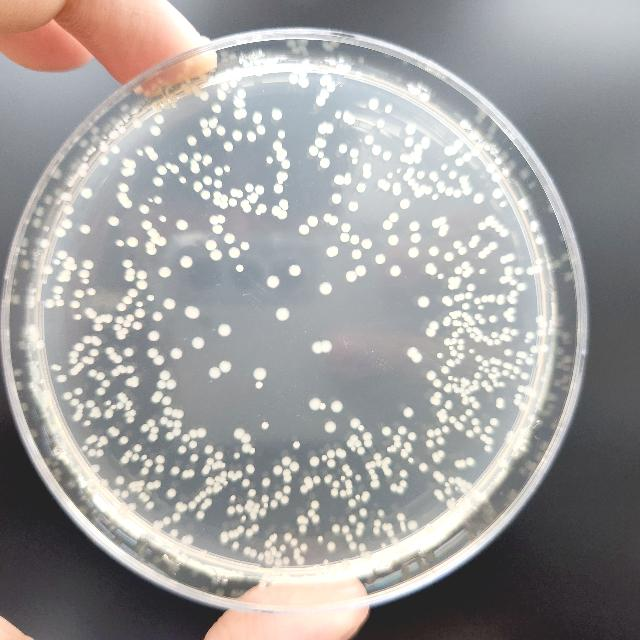colony: (184, 305, 200, 319), (275, 307, 289, 321), (266, 276, 280, 288), (218, 324, 232, 336), (320, 282, 332, 294), (326, 246, 338, 258), (289, 264, 301, 276), (417, 296, 429, 308), (331, 400, 343, 412), (309, 398, 321, 410), (180, 256, 192, 268), (210, 249, 222, 261), (159, 266, 171, 278), (233, 96, 245, 108), (164, 298, 176, 310), (192, 337, 204, 349), (254, 368, 266, 380), (220, 361, 232, 373), (391, 265, 402, 277), (408, 246, 419, 258), (224, 233, 236, 244), (171, 348, 183, 359), (148, 331, 160, 342), (312, 341, 322, 354), (322, 340, 332, 352), (346, 270, 356, 282), (356, 265, 366, 277), (298, 225, 310, 235), (362, 238, 372, 250), (388, 234, 398, 246), (409, 220, 419, 232), (405, 124, 415, 136), (230, 247, 240, 259), (314, 138, 326, 148), (492, 188, 502, 200), (324, 422, 336, 432), (176, 220, 188, 230), (150, 126, 162, 136), (136, 280, 148, 290), (210, 367, 220, 379), (62, 218, 72, 230), (108, 130, 120, 140), (341, 559, 351, 571), (308, 216, 318, 227), (375, 253, 385, 264), (368, 100, 379, 110), (408, 347, 418, 358), (412, 352, 422, 363), (206, 240, 217, 250), (233, 429, 244, 439), (167, 378, 177, 389), (40, 239, 51, 249), (81, 188, 92, 198), (352, 249, 362, 259), (340, 233, 350, 243), (350, 235, 360, 245), (277, 210, 287, 220), (271, 206, 281, 216), (334, 175, 344, 185), (332, 194, 342, 204), (348, 202, 358, 212), (356, 183, 366, 193), (338, 144, 348, 154), (320, 158, 330, 168), (309, 146, 319, 156), (383, 220, 393, 230), (411, 233, 421, 243), (400, 199, 410, 209), (274, 184, 284, 194), (364, 135, 374, 145), (272, 110, 282, 120), (253, 114, 263, 124), (316, 97, 326, 107), (326, 83, 336, 93), (289, 74, 299, 84), (298, 78, 308, 88), (426, 327, 436, 337), (404, 138, 414, 148), (491, 173, 501, 183), (473, 194, 483, 204), (429, 246, 439, 256), (444, 252, 454, 262), (484, 216, 494, 226), (426, 370, 436, 380), (403, 407, 413, 417), (418, 462, 428, 472), (446, 499, 456, 509), (408, 520, 418, 530), (310, 456, 320, 466), (282, 456, 292, 466), (350, 418, 360, 428), (233, 131, 243, 141), (213, 224, 223, 234), (142, 220, 152, 230), (128, 237, 138, 247), (137, 270, 147, 280), (241, 433, 251, 443), (242, 443, 252, 453), (162, 396, 172, 406), (160, 370, 170, 380), (154, 355, 164, 365), (148, 348, 158, 358), (135, 308, 145, 318), (128, 288, 138, 298), (75, 342, 85, 352), (58, 250, 68, 260), (84, 260, 94, 270), (109, 216, 119, 226), (81, 224, 91, 234), (56, 227, 66, 237), (64, 205, 74, 215), (111, 144, 121, 154), (62, 192, 72, 202), (424, 524, 434, 534), (497, 458, 507, 468), (418, 92, 429, 101), (276, 172, 288, 180), (408, 87, 420, 95), (329, 216, 338, 226), (389, 213, 398, 223), (372, 146, 381, 156), (429, 320, 438, 330), (453, 140, 462, 150), (538, 343, 548, 352), (382, 426, 391, 436), (289, 462, 299, 471), (262, 478, 272, 487), (140, 204, 150, 213), (224, 142, 233, 152), (217, 126, 226, 136), (154, 115, 164, 124), (212, 105, 222, 114), (247, 464, 256, 474), (204, 444, 213, 454), (153, 312, 163, 321), (29, 323, 39, 332), (470, 489, 480, 498), (190, 164, 200, 173), (125, 348, 134, 357), (458, 498, 467, 507), (280, 198, 288, 208), (272, 142, 282, 150), (282, 160, 290, 170), (382, 153, 392, 161), (376, 120, 386, 128), (256, 127, 266, 135), (248, 132, 256, 142), (320, 90, 330, 98), (298, 70, 308, 78), (256, 185, 264, 195), (242, 205, 252, 213), (240, 200, 250, 208), (230, 188, 238, 198), (240, 242, 250, 250), (392, 188, 402, 196), (417, 170, 425, 180), (326, 124, 334, 134), (418, 185, 426, 195), (452, 190, 462, 198), (432, 218, 440, 228), (452, 241, 462, 249), (488, 242, 498, 250), (506, 252, 514, 262), (504, 266, 512, 276), (516, 283, 526, 291), (440, 366, 450, 374), (432, 379, 442, 387), (430, 396, 440, 404), (536, 328, 544, 338), (526, 266, 534, 276), (524, 385, 532, 395), (528, 388, 536, 398), (390, 536, 398, 546), (370, 479, 380, 487), (326, 459, 336, 467), (310, 500, 320, 508), (362, 432, 372, 440), (297, 514, 305, 524), (274, 558, 284, 566), (322, 75, 332, 83), (254, 69, 264, 77), (234, 110, 242, 120), (194, 182, 202, 192), (202, 190, 210, 200), (154, 178, 164, 186), (170, 165, 180, 173), (180, 153, 188, 163), (188, 136, 196, 146), (202, 128, 212, 136), (200, 92, 210, 100), (147, 248, 157, 256), (158, 237, 166, 247), (147, 228, 157, 236), (170, 528, 178, 538), (198, 428, 206, 438), (164, 406, 172, 416), (154, 391, 164, 399), (101, 478, 109, 488), (126, 268, 136, 276), (186, 534, 194, 544), (106, 408, 114, 418), (57, 374, 67, 382), (70, 350, 80, 358), (88, 478, 96, 488), (36, 339, 44, 349), (46, 298, 54, 308), (32, 330, 40, 340), (43, 266, 53, 274), (80, 270, 90, 278), (54, 286, 64, 294), (78, 169, 88, 177), (133, 120, 143, 128), (312, 564, 322, 572), (271, 566, 279, 576), (302, 60, 310, 70), (168, 94, 178, 102), (342, 224, 351, 232), (349, 150, 358, 158), (244, 184, 253, 192), (318, 125, 326, 134), (518, 402, 526, 411), (327, 449, 335, 458), (328, 542, 337, 550), (218, 214, 226, 223), (204, 177, 212, 186), (158, 167, 166, 176), (168, 488, 176, 497), (157, 455, 166, 463), (190, 429, 198, 438), (158, 379, 166, 388), (116, 476, 125, 484), (92, 463, 100, 472), (86, 400, 95, 408), (96, 372, 105, 380), (102, 379, 111, 387), (100, 157, 108, 166), (444, 146, 451, 156), (446, 359, 456, 366), (344, 113, 351, 123), (324, 214, 332, 222), (363, 163, 371, 171), (378, 180, 386, 188), (382, 183, 390, 191), (278, 131, 286, 139), (384, 106, 392, 114), (354, 72, 362, 80), (292, 66, 300, 74), (258, 204, 266, 212), (236, 190, 244, 198), (229, 198, 237, 206), (236, 264, 244, 272), (414, 156, 422, 164), (414, 144, 422, 152), (424, 187, 432, 195), (414, 189, 422, 197), (429, 172, 437, 180), (448, 171, 456, 179), (445, 188, 453, 196), (455, 158, 463, 166), (463, 153, 471, 161), (471, 148, 479, 156), (450, 147, 458, 155), (486, 164, 494, 172), (462, 188, 470, 196), (438, 217, 446, 225), (468, 240, 476, 248), (471, 235, 479, 243), (478, 222, 486, 230), (478, 251, 486, 259), (483, 246, 491, 254), (500, 229, 508, 237), (495, 224, 503, 232), (490, 220, 498, 228), (461, 261, 469, 269), (466, 266, 474, 274), (462, 270, 470, 278), (454, 266, 462, 274), (500, 256, 508, 264), (514, 267, 522, 275), (466, 283, 474, 291), (445, 298, 453, 306), (464, 314, 472, 322), (502, 326, 510, 334), (448, 416, 456, 424), (520, 372, 528, 380), (525, 357, 533, 365), (526, 331, 534, 339), (530, 345, 538, 353), (536, 315, 544, 323), (538, 320, 546, 328), (533, 265, 541, 273), (535, 237, 543, 245), (530, 220, 538, 228), (490, 417, 498, 425), (484, 426, 492, 434), (485, 436, 493, 444), (426, 429, 434, 437), (436, 436, 444, 444), (426, 439, 434, 447), (466, 457, 474, 465), (408, 432, 416, 440), (398, 426, 406, 434), (436, 474, 444, 482), (399, 469, 407, 477), (507, 430, 515, 438), (505, 436, 513, 444), (454, 476, 462, 484), (397, 513, 405, 521), (372, 526, 380, 534), (386, 529, 394, 537), (374, 452, 382, 460), (370, 472, 378, 480), (384, 468, 392, 476), (342, 464, 350, 472), (332, 480, 340, 488), (331, 488, 339, 496), (348, 499, 356, 507), (313, 475, 321, 483), (300, 485, 308, 493), (304, 476, 312, 484), (292, 440, 300, 448), (348, 514, 356, 522), (274, 466, 282, 474), (283, 468, 291, 476), (284, 474, 292, 482), (354, 440, 362, 448), (350, 434, 358, 442), (342, 525, 350, 533), (332, 524, 340, 532), (312, 513, 320, 521), (281, 495, 289, 503), (275, 491, 283, 499), (349, 541, 357, 549), (358, 543, 366, 551), (300, 543, 308, 551), (299, 524, 307, 532), (284, 532, 292, 540), (290, 538, 298, 546), (297, 556, 305, 564), (270, 499, 278, 507), (262, 494, 270, 502), (336, 64, 344, 72), (344, 65, 352, 73), (238, 90, 246, 98), (210, 216, 218, 224), (214, 180, 222, 188), (215, 167, 223, 175), (213, 198, 221, 206), (154, 196, 162, 204), (194, 153, 202, 161), (204, 155, 212, 163), (209, 120, 217, 128), (200, 120, 208, 128), (218, 93, 226, 101), (230, 80, 238, 88), (124, 260, 132, 268), (242, 478, 250, 486), (249, 488, 257, 496), (228, 506, 236, 514), (232, 541, 240, 549), (244, 546, 252, 554), (250, 549, 258, 557), (246, 528, 254, 536), (197, 510, 205, 518), (191, 454, 199, 462), (179, 445, 187, 453), (189, 440, 197, 448), (182, 434, 190, 442), (215, 451, 223, 459), (199, 490, 207, 498), (204, 498, 212, 506), (188, 501, 196, 509), (173, 512, 181, 520), (163, 516, 171, 524), (172, 466, 180, 474), (156, 464, 164, 472), (154, 480, 162, 488), (146, 501, 154, 509), (128, 503, 136, 511), (145, 459, 153, 467), (134, 444, 142, 452), (150, 433, 158, 441), (167, 432, 175, 440), (173, 428, 181, 436), (151, 426, 159, 434), (142, 424, 150, 432), (148, 419, 156, 427), (160, 416, 168, 424), (174, 420, 182, 428), (206, 477, 214, 485), (121, 490, 129, 498), (113, 489, 121, 497), (121, 436, 129, 444), (100, 436, 108, 444), (112, 428, 120, 436), (112, 368, 120, 376), (120, 366, 128, 374), (134, 322, 142, 330), (127, 314, 135, 322), (116, 316, 124, 324), (123, 320, 131, 328), (124, 296, 132, 304), (118, 303, 126, 311), (126, 274, 134, 282), (89, 448, 97, 456), (98, 387, 106, 395), (64, 392, 72, 400), (72, 398, 80, 406), (91, 348, 99, 356), (84, 336, 92, 344), (89, 369, 97, 377), (71, 368, 79, 376), (74, 364, 82, 372), (110, 352, 118, 360), (95, 316, 103, 324), (89, 310, 97, 318), (76, 290, 84, 298), (72, 300, 80, 308), (86, 436, 94, 444), (90, 434, 98, 442), (67, 256, 75, 264), (62, 262, 70, 270), (94, 338, 102, 346), (120, 184, 128, 192), (146, 147, 154, 155), (150, 153, 158, 161), (100, 144, 108, 152), (127, 168, 135, 176), (118, 126, 126, 134), (548, 319, 552, 335), (202, 75, 210, 83), (162, 102, 170, 110), (154, 105, 162, 113), (184, 87, 192, 95), (194, 89, 202, 97), (348, 117, 356, 125), (43, 388, 51, 396), (124, 200, 132, 208), (95, 324, 104, 331), (431, 266, 437, 276), (145, 242, 155, 248), (172, 408, 178, 418), (182, 535, 188, 545), (106, 314, 112, 324), (366, 550, 372, 560), (502, 167, 508, 177), (117, 192, 127, 198), (344, 178, 352, 185), (459, 176, 466, 184), (458, 248, 466, 255), (499, 276, 506, 284), (444, 338, 451, 346), (450, 349, 458, 356), (509, 328, 516, 336), (504, 310, 511, 318), (465, 429, 473, 436), (434, 428, 441, 436), (434, 470, 441, 478), (389, 483, 396, 491), (359, 508, 366, 516), (364, 439, 372, 446), (339, 449, 346, 457), (240, 110, 247, 118), (280, 150, 287, 158), (150, 238, 158, 245), (235, 470, 242, 478), (205, 486, 212, 494), (238, 525, 245, 533), (132, 454, 140, 461), (166, 419, 174, 426), (178, 410, 185, 418), (96, 449, 104, 456), (95, 410, 102, 418), (88, 288, 95, 296), (81, 163, 89, 170), (119, 504, 127, 511), (29, 301, 36, 309), (68, 180, 76, 187), (106, 348, 115, 354), (404, 173, 411, 180), (479, 434, 486, 441), (399, 479, 406, 486), (115, 324, 122, 331), (363, 172, 371, 178), (335, 112, 341, 120), (393, 183, 401, 189), (400, 154, 406, 162), (414, 151, 422, 157), (421, 137, 429, 143), (408, 178, 414, 186), (436, 182, 444, 188), (438, 186, 444, 194), (440, 224, 448, 230), (438, 230, 446, 236), (454, 294, 460, 302), (464, 293, 472, 299), (462, 302, 468, 310), (426, 263, 434, 269), (488, 294, 494, 302), (442, 320, 450, 326), (456, 344, 464, 350), (474, 355, 482, 361), (489, 356, 495, 364), (506, 316, 514, 322), (496, 299, 504, 305), (472, 401, 478, 409), (466, 408, 472, 416), (460, 414, 466, 422), (434, 392, 442, 398), (482, 380, 488, 388), (486, 384, 492, 392), (477, 142, 483, 150), (518, 384, 524, 392), (514, 393, 522, 399), (513, 399, 521, 405), (442, 426, 450, 432), (460, 459, 466, 467), (396, 486, 404, 492), (400, 452, 408, 458), (394, 441, 402, 447), (393, 435, 401, 441), (468, 132, 474, 140), (520, 204, 528, 210), (448, 476, 454, 484), (466, 482, 472, 490), (378, 508, 384, 516), (385, 456, 391, 464), (370, 460, 376, 468), (324, 476, 332, 482), (362, 491, 370, 497), (305, 482, 313, 488), (284, 485, 290, 493), (320, 402, 326, 410), (358, 446, 364, 454), (336, 448, 342, 456), (346, 533, 352, 541), (264, 540, 272, 546), (264, 550, 272, 556), (258, 552, 264, 560), (276, 550, 282, 558), (284, 556, 290, 564), (270, 534, 276, 542), (260, 508, 266, 516), (277, 156, 285, 162), (276, 148, 284, 154), (214, 192, 222, 198), (222, 194, 228, 202), (220, 202, 228, 208), (222, 82, 228, 90), (252, 192, 258, 200), (152, 232, 160, 238), (148, 294, 154, 302), (252, 523, 258, 531), (206, 458, 214, 464), (204, 464, 212, 470), (202, 468, 210, 474), (228, 470, 234, 478), (220, 471, 228, 477), (194, 495, 202, 501), (250, 512, 258, 518), (183, 470, 189, 478), (148, 481, 154, 489), (144, 494, 150, 502), (228, 530, 234, 538), (141, 468, 149, 474), (216, 460, 222, 468), (152, 396, 160, 402), (126, 450, 132, 458), (122, 456, 128, 464), (127, 416, 135, 422), (212, 486, 220, 492), (220, 531, 228, 537), (221, 537, 229, 543), (126, 378, 132, 386), (128, 365, 134, 373), (176, 502, 184, 508), (128, 480, 134, 488), (118, 392, 126, 398), (135, 480, 141, 488), (92, 406, 100, 412), (75, 388, 83, 394), (70, 358, 78, 364), (83, 356, 89, 364), (114, 356, 122, 362), (118, 334, 126, 340), (100, 314, 106, 322), (86, 308, 94, 314), (76, 412, 84, 418), (74, 415, 82, 421), (56, 300, 64, 306), (70, 264, 78, 270), (123, 169, 129, 177), (130, 160, 136, 168), (124, 159, 130, 167), (153, 525, 161, 531), (199, 550, 207, 556), (331, 564, 337, 572), (233, 69, 241, 75), (234, 74, 242, 80), (190, 159, 198, 165), (124, 510, 130, 518), (117, 508, 123, 516), (44, 396, 52, 402), (408, 158, 414, 165), (412, 183, 418, 190), (408, 168, 414, 175), (509, 280, 516, 286), (509, 290, 516, 296), (474, 298, 481, 304), (452, 319, 458, 326), (444, 316, 451, 322), (489, 316, 496, 322), (504, 349, 511, 355), (509, 298, 516, 304), (474, 372, 481, 378), (484, 145, 491, 151), (459, 122, 466, 128), (474, 426, 481, 432), (484, 445, 491, 451), (438, 449, 444, 456), (454, 459, 460, 466), (434, 489, 441, 495), (404, 442, 411, 448), (459, 486, 466, 492), (374, 520, 381, 526), (376, 459, 382, 466), (340, 489, 346, 496), (348, 439, 354, 446), (308, 509, 314, 516), (319, 80, 326, 86), (225, 165, 231, 172), (118, 240, 124, 247), (255, 382, 262, 388), (232, 474, 238, 481), (189, 469, 195, 476), (220, 477, 227, 483), (108, 426, 115, 432), (182, 504, 188, 511), (140, 479, 146, 486), (225, 70, 232, 76), (192, 85, 198, 92), (74, 173, 80, 180), (238, 570, 245, 576), (352, 158, 358, 164), (318, 152, 324, 158), (267, 158, 273, 164), (441, 165, 447, 171), (322, 122, 328, 128), (404, 156, 410, 162), (422, 143, 428, 149), (432, 194, 438, 200), (406, 172, 412, 178), (462, 183, 468, 189), (479, 269, 485, 275), (506, 276, 512, 282), (442, 296, 448, 302), (448, 277, 454, 283), (454, 277, 460, 283), (448, 283, 454, 289), (425, 268, 431, 274), (481, 296, 487, 302), (475, 314, 481, 320), (479, 318, 485, 324), (462, 312, 468, 318), (463, 322, 469, 328), (457, 327, 463, 333), (452, 331, 458, 337), (458, 338, 464, 344), (451, 338, 457, 344), (469, 320, 475, 326), (466, 327, 472, 333), (469, 332, 475, 338), (474, 336, 480, 342), (482, 336, 488, 342), (491, 332, 497, 338), (487, 339, 493, 345), (458, 353, 464, 359), (454, 358, 460, 364), (495, 359, 501, 365), (508, 308, 514, 314), (498, 294, 504, 300), (506, 294, 512, 300), (505, 336, 511, 342), (474, 328, 480, 334), (477, 330, 483, 336), (458, 387, 464, 393), (464, 388, 470, 394), (469, 396, 475, 402), (502, 370, 508, 376), (482, 360, 488, 366), (506, 363, 512, 369), (515, 359, 521, 365), (520, 352, 526, 358), (516, 351, 522, 357), (530, 226, 536, 232), (495, 159, 501, 165), (472, 418, 478, 424), (440, 408, 446, 414), (436, 411, 442, 417), (442, 414, 448, 420), (431, 452, 437, 458), (445, 488, 451, 494), (390, 445, 396, 451), (468, 385, 474, 391), (518, 199, 524, 205), (437, 494, 443, 500), (460, 479, 466, 485), (456, 482, 462, 488), (382, 524, 388, 530), (366, 463, 372, 469), (369, 468, 375, 474), (382, 464, 388, 470), (346, 469, 352, 475), (355, 474, 361, 480), (346, 489, 352, 495), (358, 522, 364, 528), (356, 528, 362, 534), (303, 517, 309, 523), (280, 545, 286, 551), (294, 548, 300, 554), (294, 553, 300, 559), (272, 550, 278, 556), (160, 216, 166, 222), (180, 178, 186, 184), (166, 163, 172, 169), (213, 118, 219, 124), (262, 422, 268, 428), (250, 447, 256, 453), (234, 452, 240, 458), (202, 503, 208, 509), (254, 502, 260, 508), (253, 507, 259, 513), (140, 492, 146, 498), (233, 530, 239, 536), (142, 454, 148, 460), (212, 463, 218, 469), (137, 486, 143, 492), (130, 409, 136, 415), (124, 411, 130, 417), (126, 400, 132, 406), (238, 506, 244, 512), (118, 402, 124, 408), (132, 376, 138, 382), (132, 381, 138, 387), (122, 397, 128, 403), (85, 420, 91, 426), (90, 412, 96, 418), (52, 363, 58, 369), (88, 358, 94, 364), (78, 362, 84, 368), (122, 328, 128, 334), (76, 314, 82, 320), (55, 294, 61, 300), (55, 259, 61, 265), (83, 278, 89, 284), (92, 336, 98, 342), (59, 276, 65, 282), (65, 276, 71, 282), (65, 270, 71, 276), (138, 150, 144, 156), (360, 552, 366, 558), (87, 150, 93, 156), (83, 156, 89, 162), (40, 378, 46, 384), (30, 295, 36, 301), (243, 62, 249, 68), (282, 573, 288, 579), (496, 398, 504, 402), (534, 260, 542, 264), (438, 418, 446, 422), (433, 458, 441, 462), (404, 448, 412, 452), (344, 480, 352, 484), (360, 496, 368, 500), (160, 520, 164, 528), (326, 564, 330, 572), (282, 206, 288, 210), (345, 174, 351, 178), (410, 152, 414, 158), (499, 202, 505, 206), (460, 294, 464, 300), (457, 310, 461, 316), (457, 320, 461, 326), (438, 352, 442, 358), (469, 348, 473, 354), (494, 340, 500, 344), (478, 366, 484, 370), (508, 296, 512, 302), (498, 336, 504, 340), (472, 326, 476, 332), (464, 380, 470, 384), (460, 378, 466, 382), (460, 383, 466, 387), (452, 383, 456, 389), (454, 387, 458, 393), (496, 404, 502, 408), (446, 400, 452, 404), (445, 404, 451, 408), (498, 382, 504, 386), (491, 368, 497, 372), (488, 372, 492, 378), (490, 374, 494, 380), (504, 362, 508, 368), (512, 366, 518, 370), (513, 370, 519, 374), (408, 458, 414, 462), (444, 482, 450, 486), (472, 380, 478, 384), (474, 384, 478, 390), (450, 497, 456, 501), (382, 542, 386, 548), (388, 523, 392, 529), (382, 460, 388, 464), (322, 454, 326, 460), (328, 474, 332, 480), (346, 484, 352, 488), (356, 494, 360, 500), (358, 426, 364, 430), (400, 524, 406, 528), (270, 546, 276, 550), (246, 196, 252, 200), (250, 200, 256, 204), (230, 496, 236, 500), (222, 462, 226, 468), (216, 475, 220, 481), (214, 482, 220, 486), (244, 504, 250, 508), (248, 506, 252, 512), (236, 504, 240, 510), (106, 400, 112, 404), (118, 364, 124, 368), (137, 302, 143, 306), (132, 486, 136, 492), (78, 404, 84, 408), (56, 366, 62, 370), (118, 330, 122, 336), (82, 446, 88, 450), (60, 270, 64, 276), (154, 520, 158, 526), (172, 103, 176, 109), (152, 102, 158, 106), (46, 226, 50, 232), (118, 120, 124, 124), (31, 288, 37, 292), (287, 574, 291, 580), (304, 574, 308, 580), (332, 572, 336, 578), (278, 180, 282, 184), (388, 174, 392, 178), (396, 169, 400, 173), (256, 210, 260, 214), (433, 178, 437, 182), (438, 274, 442, 278), (454, 285, 458, 289), (449, 312, 453, 316), (478, 305, 482, 309), (449, 346, 453, 350), (448, 376, 452, 380), (453, 377, 457, 381), (501, 333, 505, 337), (478, 334, 482, 338), (462, 392, 466, 396), (510, 375, 514, 379), (492, 379, 496, 383), (494, 382, 498, 386), (484, 368, 488, 372), (496, 372, 500, 376), (524, 339, 528, 343), (490, 150, 494, 154), (387, 447, 391, 451), (401, 449, 405, 453), (474, 136, 478, 140), (400, 521, 404, 525), (341, 476, 345, 480), (351, 446, 355, 450), (318, 536, 322, 540), (324, 560, 328, 564), (273, 533, 277, 537), (264, 503, 268, 507), (204, 162, 208, 166), (218, 90, 222, 94), (242, 516, 246, 520), (219, 485, 223, 489), (224, 481, 228, 485), (126, 406, 130, 410), (98, 442, 102, 446), (112, 405, 116, 409), (178, 508, 182, 512), (78, 408, 82, 412), (101, 141, 105, 145), (92, 147, 96, 151), (104, 136, 108, 140), (116, 124, 120, 128), (124, 118, 128, 122), (250, 64, 254, 68), (454, 283, 460, 285), (451, 316, 457, 318), (454, 310, 456, 316), (455, 486, 459, 489), (70, 177, 74, 180), (494, 374, 496, 378), (401, 528, 405, 530), (150, 198, 152, 202), (450, 342, 452, 344), (530, 354, 532, 356)
